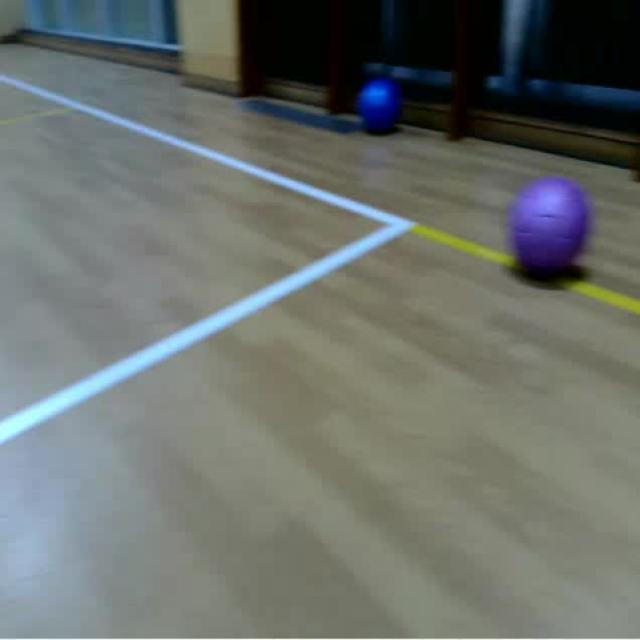blue_ball: (353, 75, 402, 136)
purple_ball: (508, 172, 591, 286)
